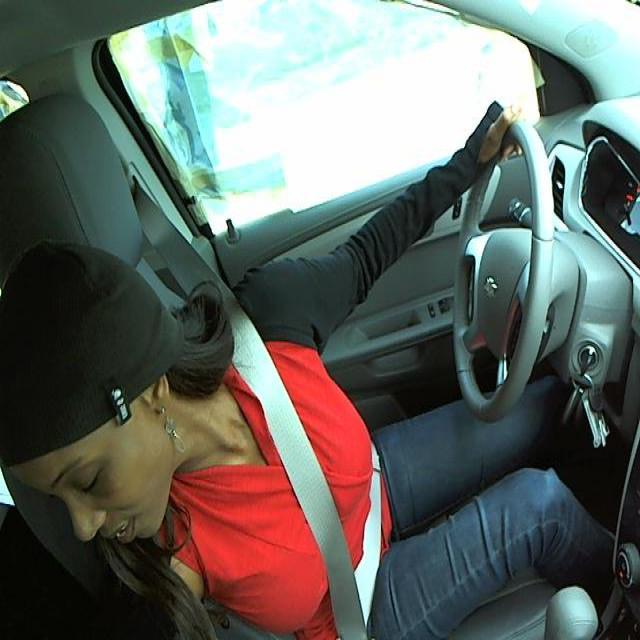seatbelt: (229, 340, 402, 621)
